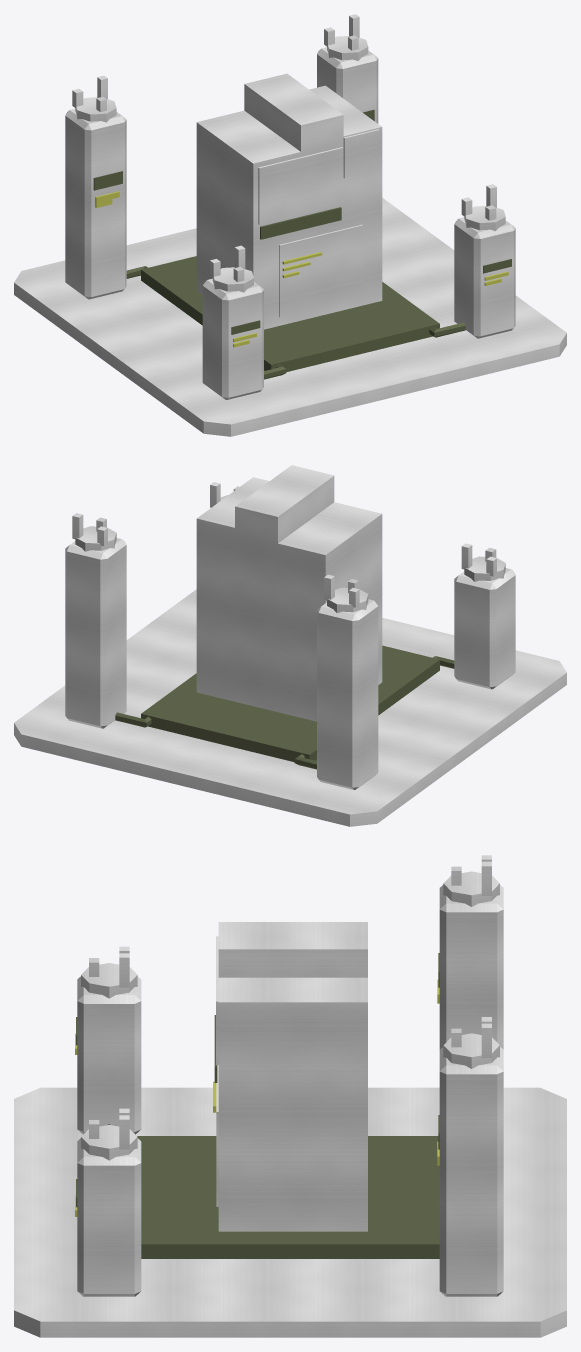
Rendered from psychic_suppressor.obj.
3 views of the same model, one above another, from view 1: azimuth 30°, elevation 25°; view 2: azimuth 150°, elevation 25°; view 3: azimuth 270°, elevation 25° (orthographic). The views are drawn at different scales.
Parts seen in each view (by area): view 1: psychic_suppressor; view 2: psychic_suppressor; view 3: psychic_suppressor.
Boxes of the visible parts, x1,y1,x2,y2 form: psychic_suppressor: (14,14,566,436); psychic_suppressor: (14,465,566,826); psychic_suppressor: (14,855,566,1337).
Bounding box in the file's own units: 5.86 × 3.37 × 5.86.
